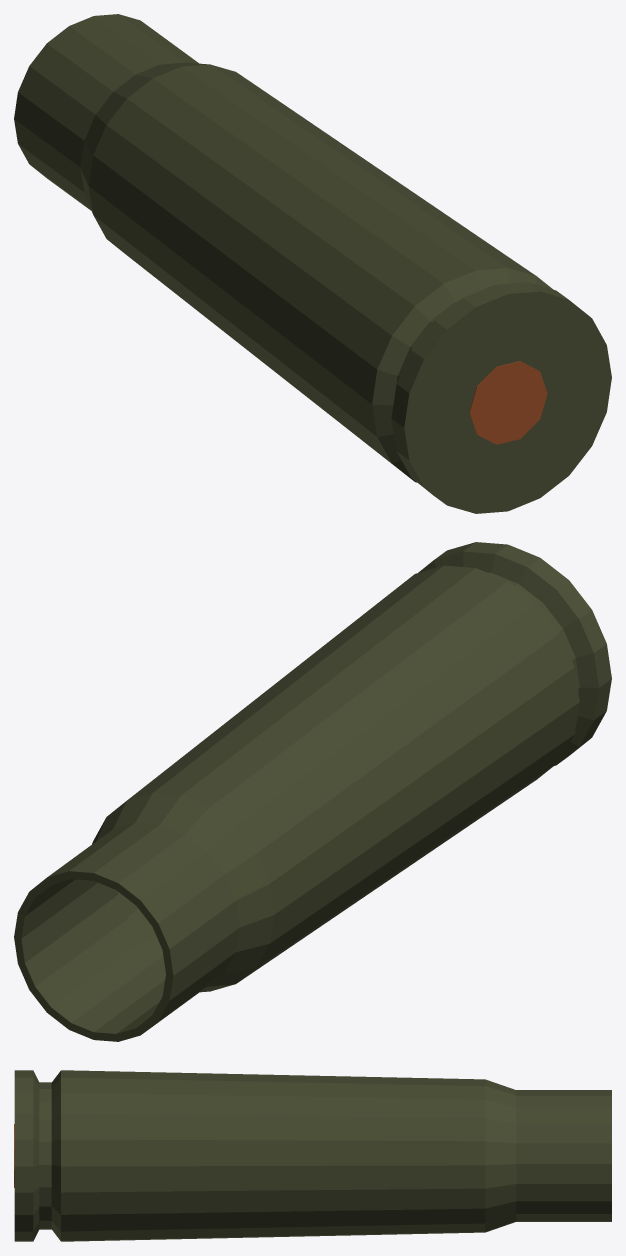
File: estojo_762.glb
3 renders of one model, top to bottom at view 1: azimuth 30°, elevation 25°; view 2: azimuth 150°, elevation 25°; view 3: azimuth 270°, elevation 25°, orthographic. The views are drawn at different scales.
Parts seen in each view (by area): view 1: estojo_762_laca_verde, estojo_762_cobre_bala; view 2: estojo_762_laca_verde; view 3: estojo_762_laca_verde.
Boxes of the visible parts, x1,y1,x2,y2 form: estojo_762_laca_verde: (14, 14, 611, 513); estojo_762_cobre_bala: (469, 361, 547, 444); estojo_762_laca_verde: (14, 542, 611, 1041); estojo_762_laca_verde: (14, 1070, 611, 1241).
Size of the model in its own units: 0.0112 by 0.0112 by 0.0387.
